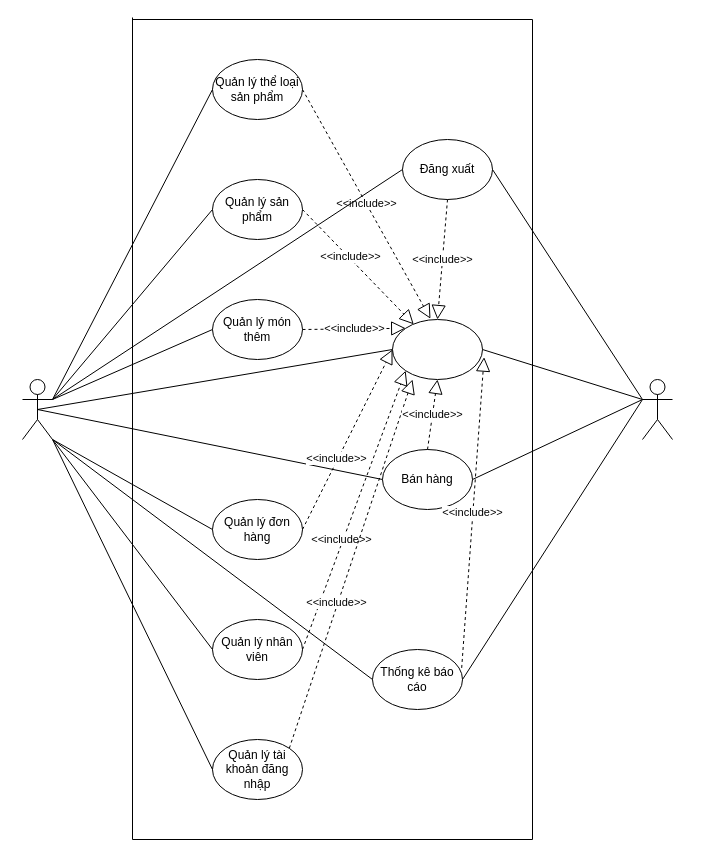
The diagram is 728 pixels wide and 858 high, and some of its shapes have lost their labels. Each missing label, with the box of its shape:
Nhân viên bán hàng: (642, 378, 672, 440)
Quản lý: (22, 378, 52, 440)
Đăng nhập: (392, 318, 482, 380)
